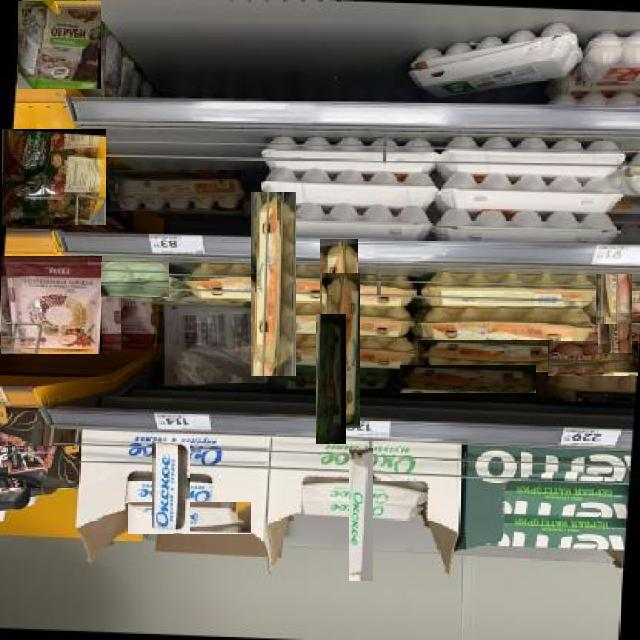Egg: (0, 255, 102, 354), (2, 129, 106, 225), (250, 192, 296, 376), (420, 304, 594, 351), (17, 0, 101, 89), (320, 240, 358, 400), (322, 273, 360, 428), (105, 170, 246, 211), (294, 472, 435, 508), (418, 339, 553, 372), (127, 501, 251, 534), (316, 314, 346, 444), (399, 365, 536, 393), (151, 442, 190, 533), (546, 372, 637, 409), (0, 446, 79, 488), (547, 340, 638, 376), (349, 447, 373, 581), (110, 297, 163, 352), (101, 261, 169, 297), (596, 274, 632, 324), (598, 305, 632, 353)
